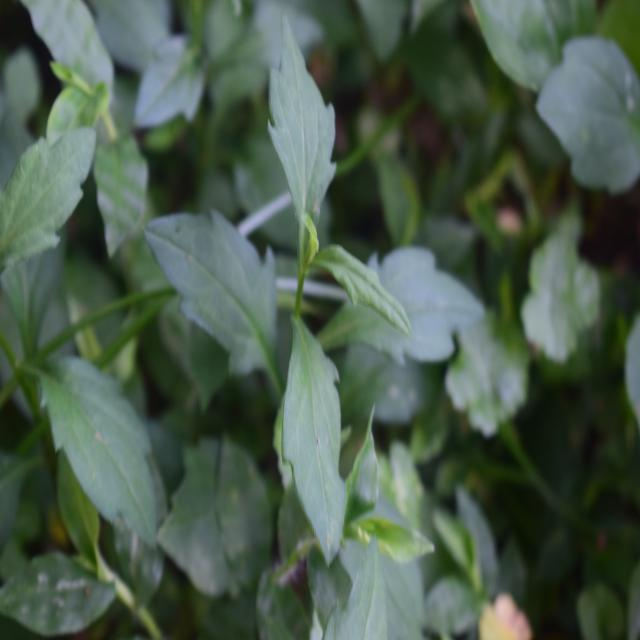Indian aster: (155, 53, 455, 542)
